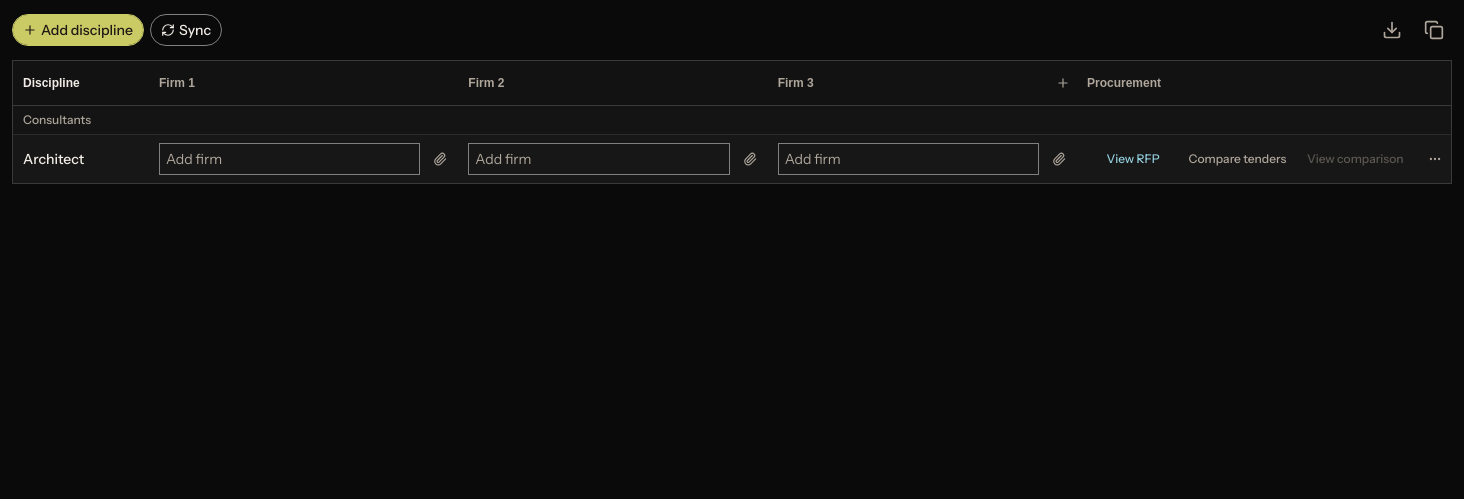
Test case: ProcurementRequestPanel › shows a newly added discipline before its save completes
What coordinates should you click on to do the following:
click the button named "Actions for Architect"
I would click on:
 (1435, 159)
Its box is [1423,147,1447,171].
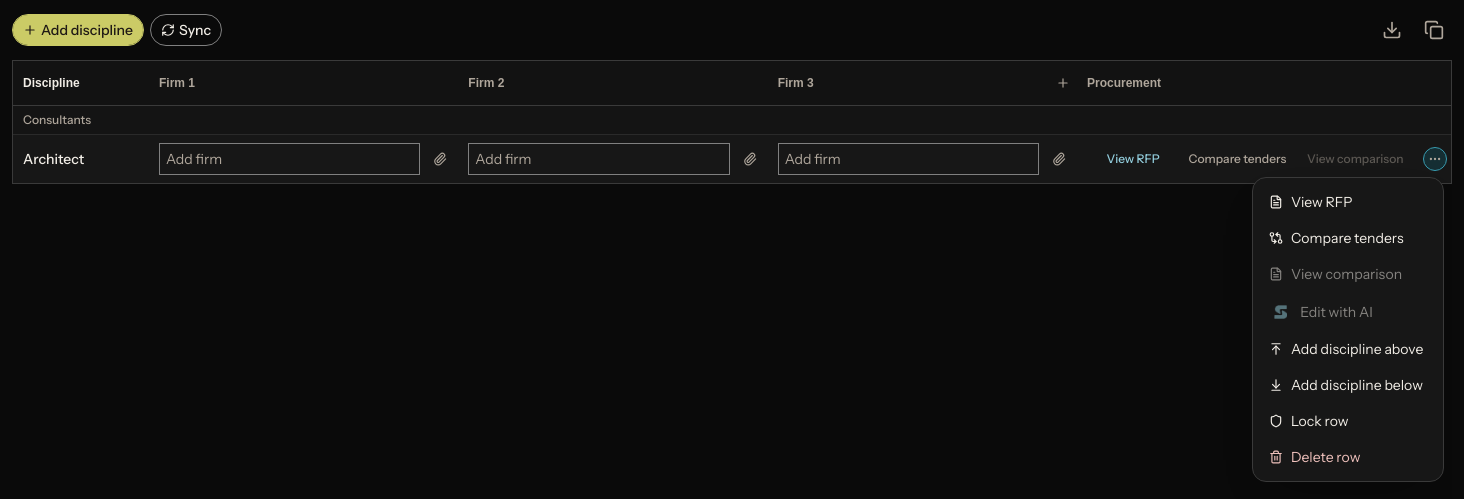
What coordinates should you click on to do the following:
click the menu item with aria-label "Add row below"
I would click on:
 (1346, 385)
Its box is [1269,376,1423,394].
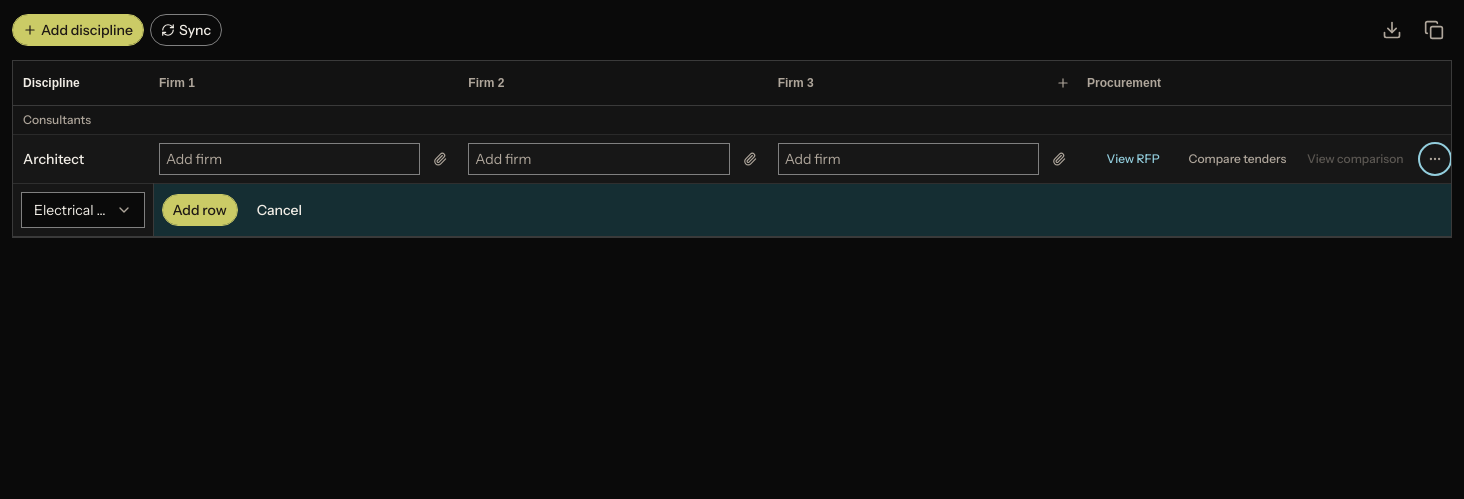
What coordinates should you click on to do the following:
click the button "Add row"
I would click on:
 (200, 210)
Its box is [162,194,238,226].
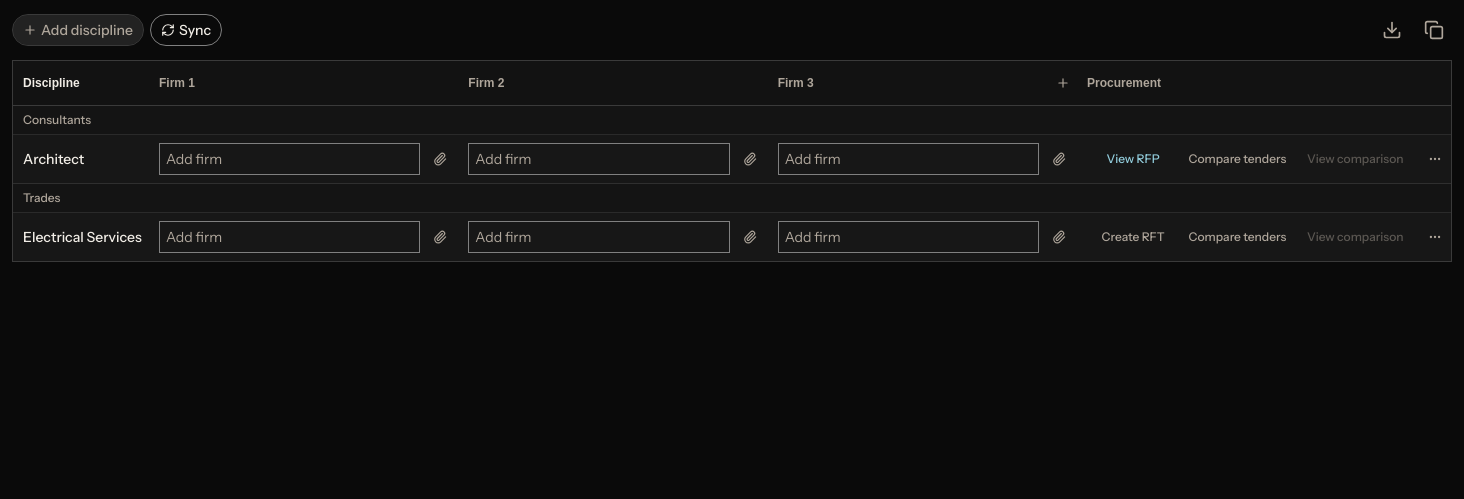
Check: the field named "Electrical Services, Firm 1" is shown, box [159,221,420,253]
